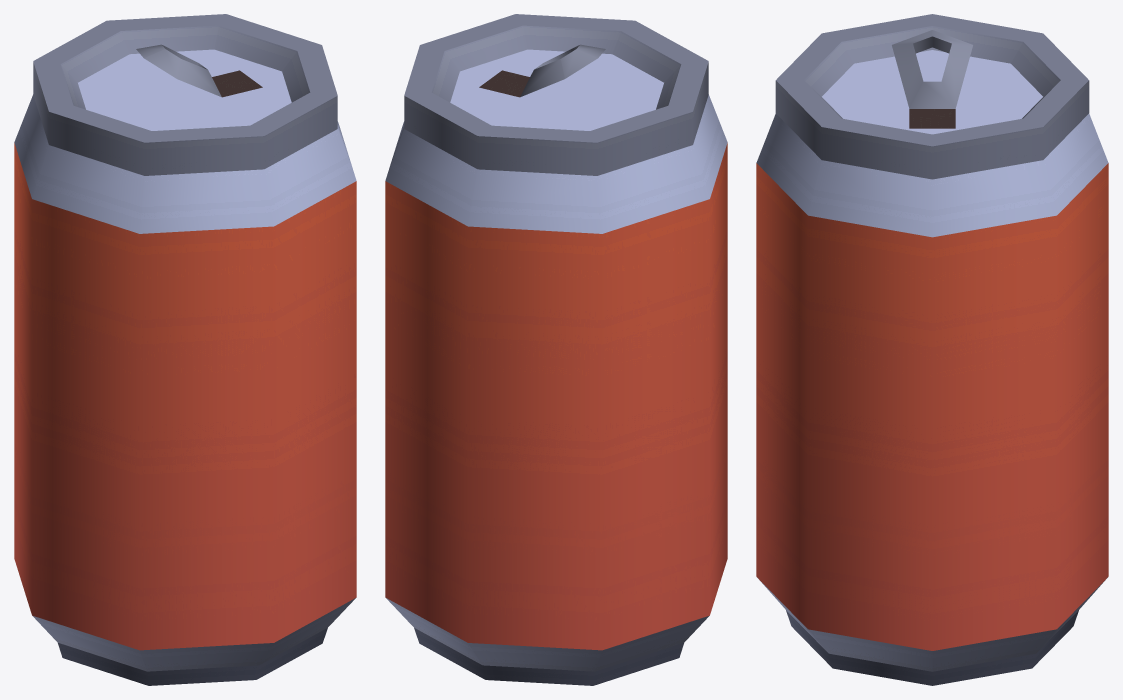
3 views of the same model, side by side, from view 1: azimuth 30°, elevation 25°; view 2: azimuth 150°, elevation 25°; view 3: azimuth 270°, elevation 25° (orthographic).
Parts seen in each view (by area): view 1: soda-can; view 2: soda-can; view 3: soda-can.
Boxes of the visible parts, left/top/right/bottom form: soda-can: left=14, top=14, right=356, bottom=685; soda-can: left=385, top=14, right=727, bottom=685; soda-can: left=756, top=14, right=1108, bottom=685.
Size of the model in its own units: 0.066 by 0.12 by 0.066.
Materials: 1 (1 with a texture image).
